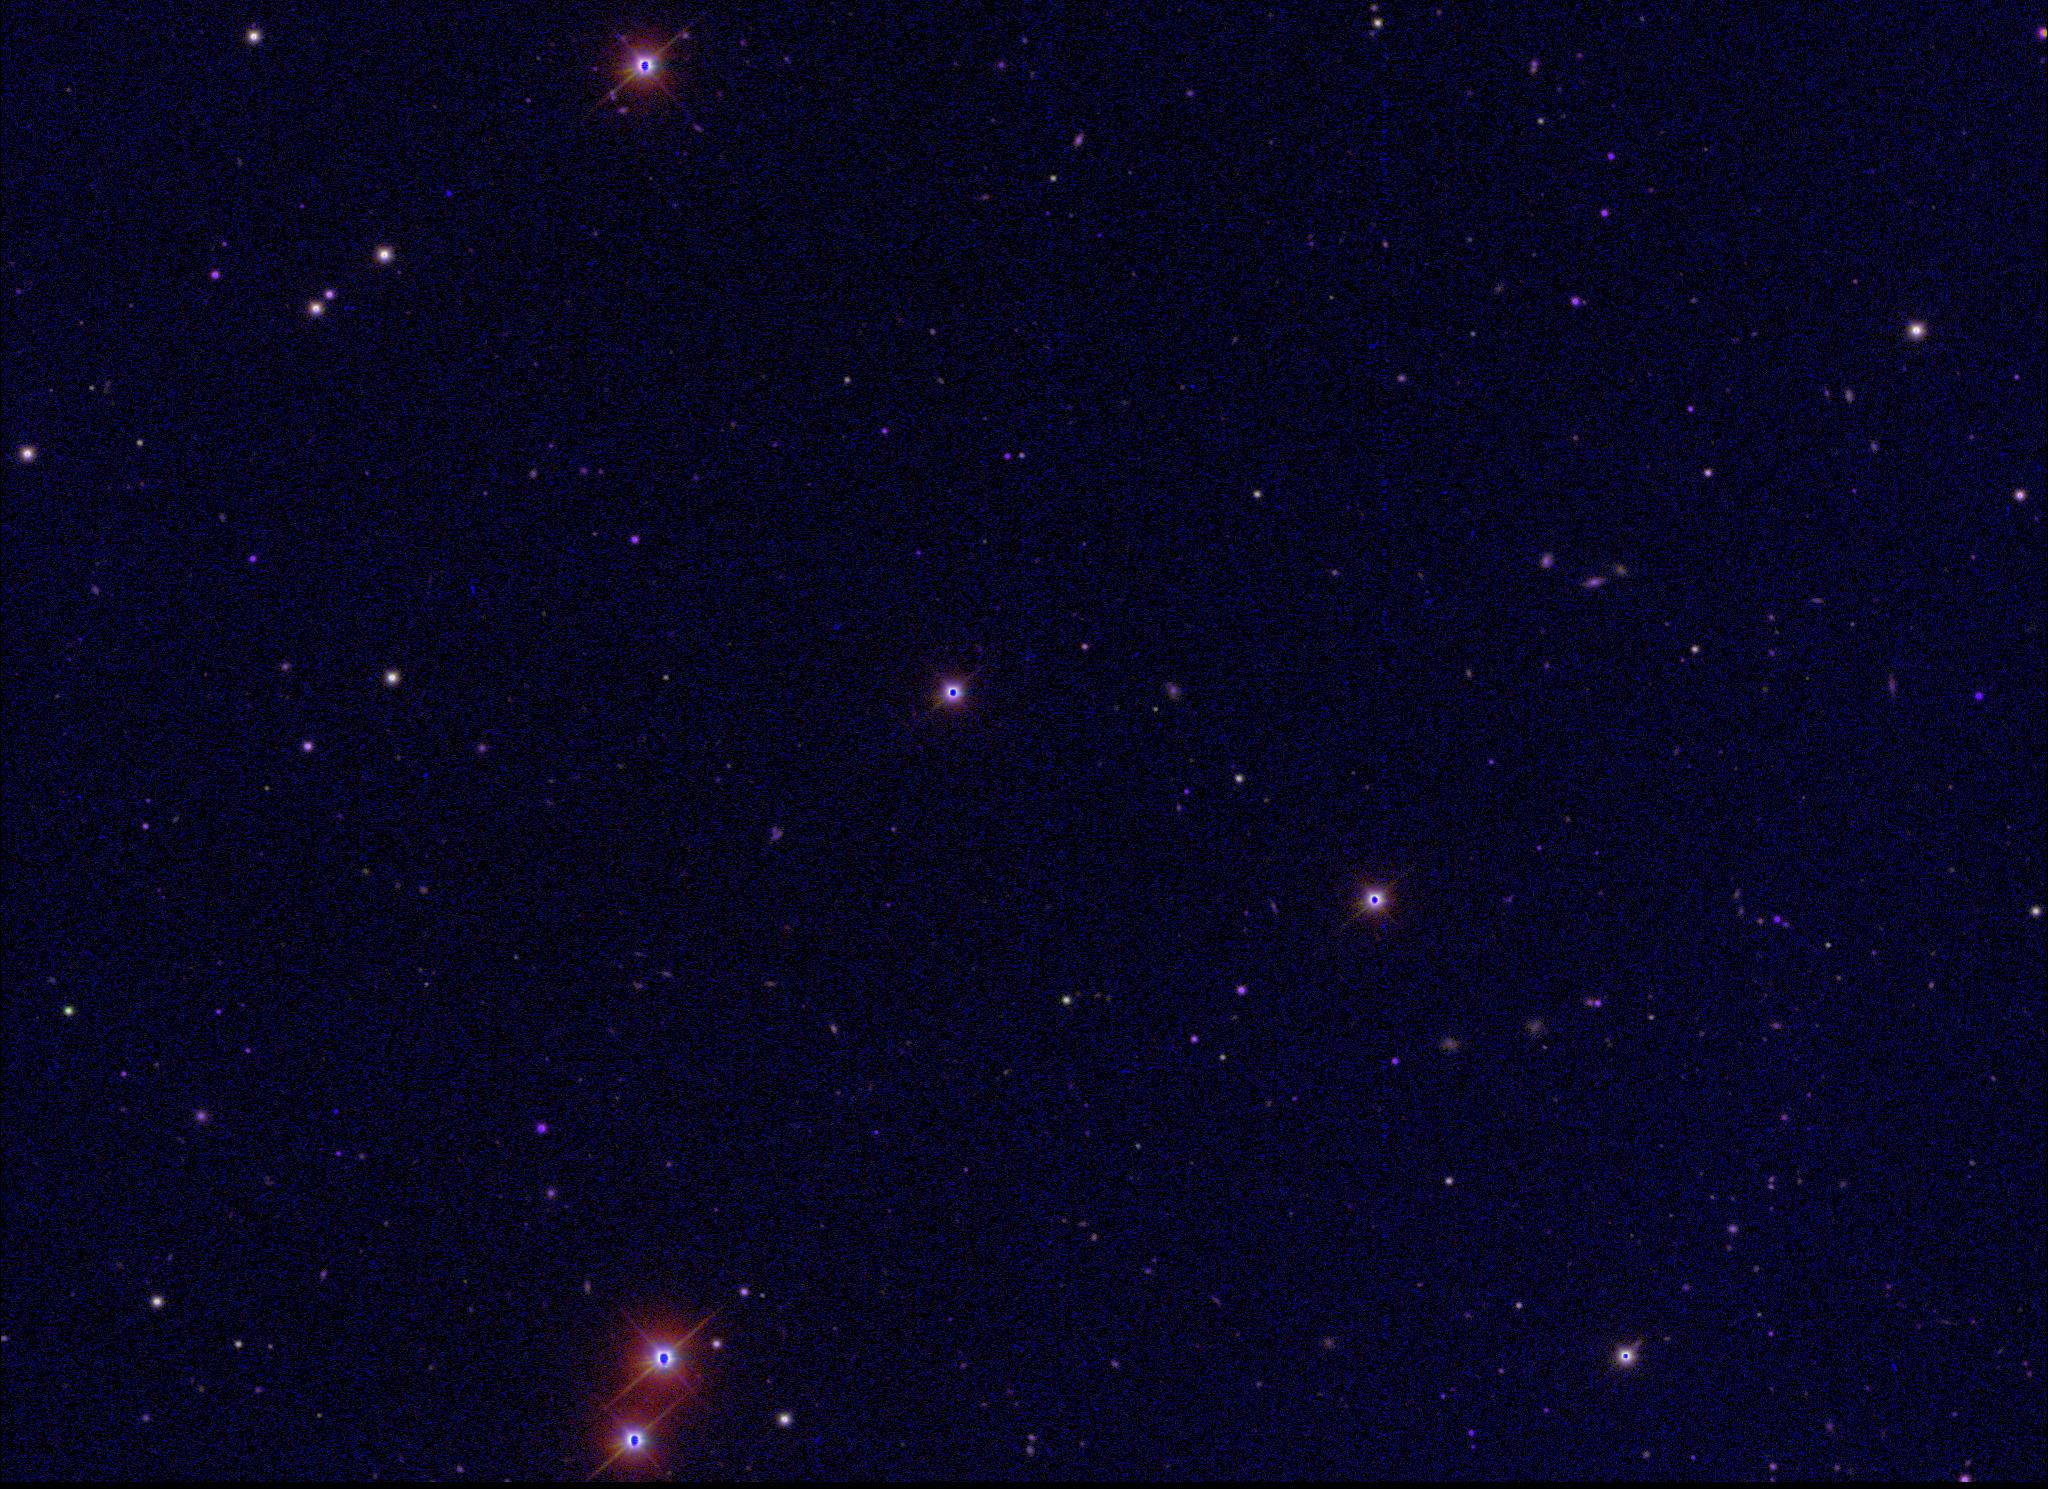L: (440, 186, 455, 200)
